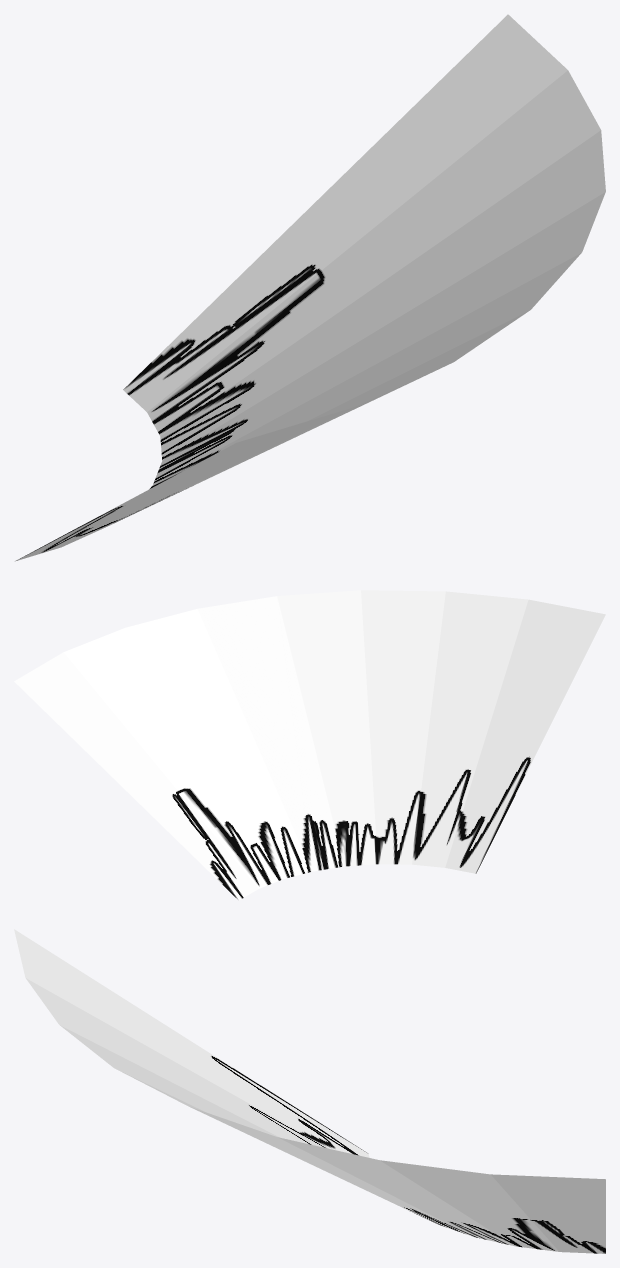
File: GroundSpark.fbx
The picture shows the model from 3 angles, top to bottom: view 1: azimuth 30°, elevation 25°; view 2: azimuth 150°, elevation 25°; view 3: azimuth 270°, elevation 25°; orthographic projection. The views are drawn at different scales.
Visible parts, largest first — view 1: Cylinder.002; view 2: Cylinder.002; view 3: Cylinder.002.
Part boxes in pixels (box(x1,y1,x2,y2)): Cylinder.002: box(15, 14, 605, 561); Cylinder.002: box(14, 590, 605, 900); Cylinder.002: box(14, 929, 605, 1253).
Size of the model in its own units: 213 by 89.06 by 213.
